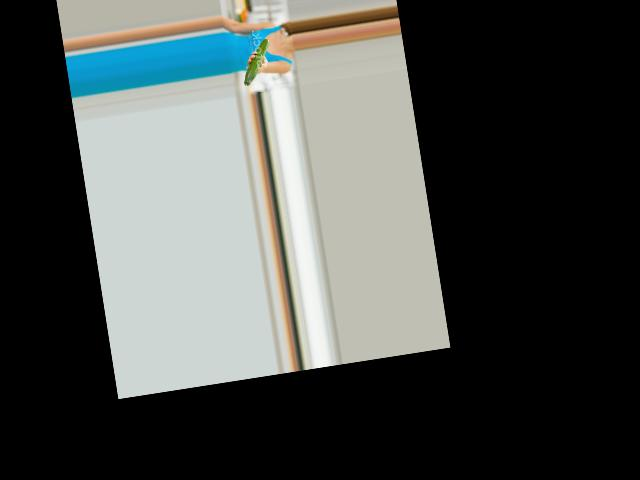cucumber: (237, 38, 274, 85)
